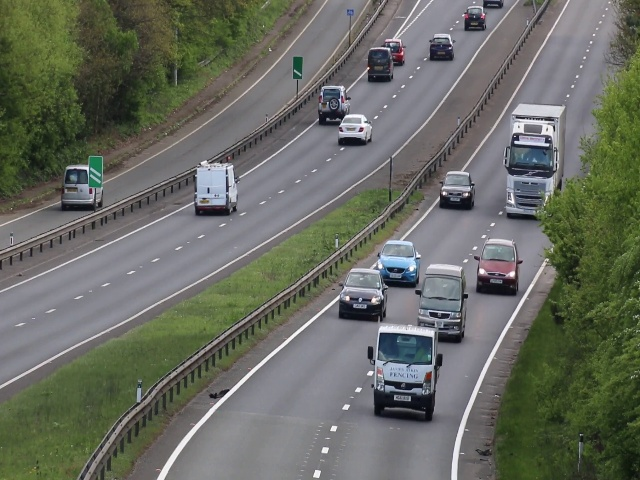car: (368, 323, 439, 418), (505, 140, 558, 218), (419, 270, 465, 341), (477, 236, 520, 295), (341, 266, 385, 323), (194, 161, 239, 215), (379, 237, 418, 290), (61, 164, 105, 208), (441, 170, 475, 210), (318, 82, 349, 124), (337, 114, 374, 145), (366, 48, 395, 82), (429, 32, 455, 61), (463, 6, 488, 32), (387, 37, 405, 66)
